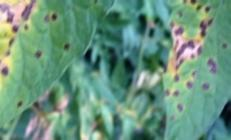Tomato Septoria leaf spot: (0, 0, 133, 140), (162, 0, 231, 140)
